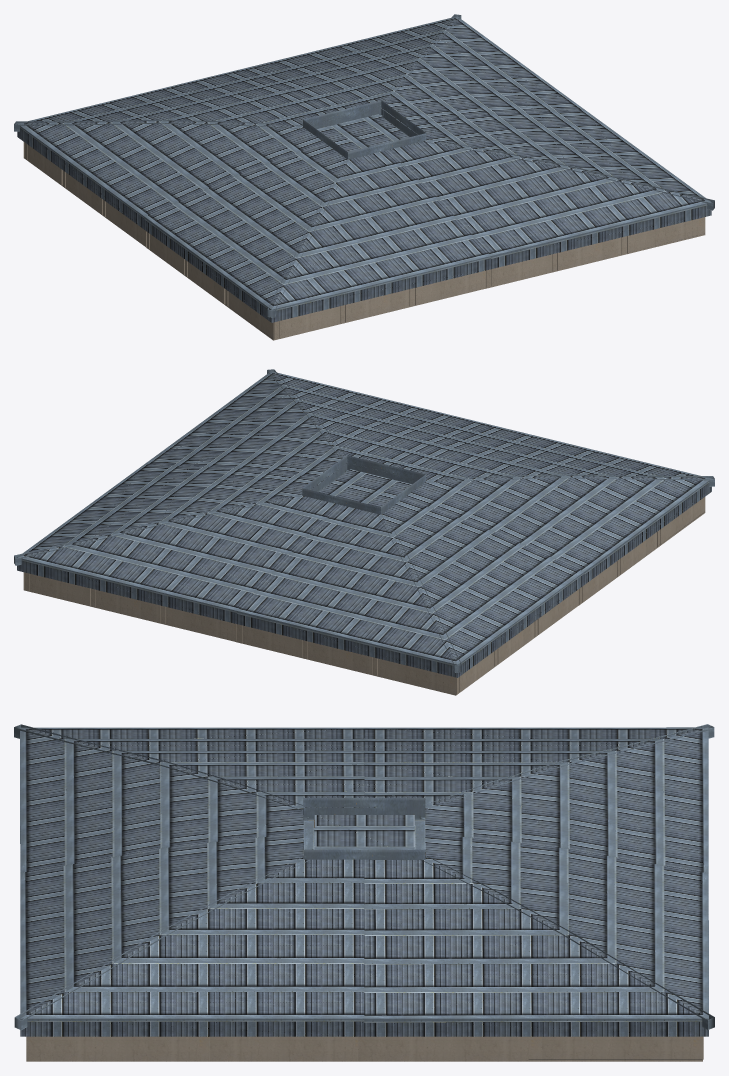
File: Boxing_Stadium.fbx
3 views of the same model, one above another, from view 1: azimuth 30°, elevation 25°; view 2: azimuth 150°, elevation 25°; view 3: azimuth 270°, elevation 25° (orthographic). The views are drawn at different scales.
Visible parts, largest first — view 1: Roof1, Side_Wall2, Roof_metal1, Side_Wall3, Roof_metal3, Roof_metal5; view 2: Roof1, Side_Wall4, Roof_metal1, Side_Wall3, Roof_metal2, Roof_metal4; view 3: Roof1, Side_Wall1, Roof_metal1, Roof_metal3, Roof_metal2, Roof_metal5, Roof_metal4.
Part boxes in pixels (left/top/right/bottom): Roof1: left=17, top=16, right=711, bottom=322; Side_Wall2: left=273, top=217, right=705, bottom=340; Roof_metal1: left=303, top=100, right=426, bottom=159; Side_Wall3: left=23, top=142, right=273, bottom=340; Roof_metal3: left=422, top=138, right=714, bottom=210; Roof_metal5: left=14, top=120, right=304, bottom=131; Roof1: left=17, top=371, right=711, bottom=677; Side_Wall4: left=23, top=572, right=456, bottom=695; Roof_metal1: left=302, top=455, right=425, bottom=514; Side_Wall3: left=456, top=497, right=705, bottom=694; Roof_metal2: left=14, top=494, right=306, bottom=565; Roof_metal4: left=424, top=474, right=714, bottom=486; Roof1: left=20, top=727, right=708, bottom=1036; Side_Wall1: left=26, top=1036, right=702, bottom=1061; Roof_metal1: left=303, top=797, right=425, bottom=859; Roof_metal3: left=14, top=856, right=309, bottom=1030; Roof_metal2: left=420, top=856, right=714, bottom=1029; Roof_metal5: left=420, top=724, right=714, bottom=819; Roof_metal4: left=14, top=724, right=308, bottom=819.
Size of the model in its own units: 7568 by 1812 by 7568.
